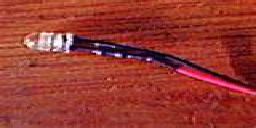LED: (21, 26, 90, 61)
